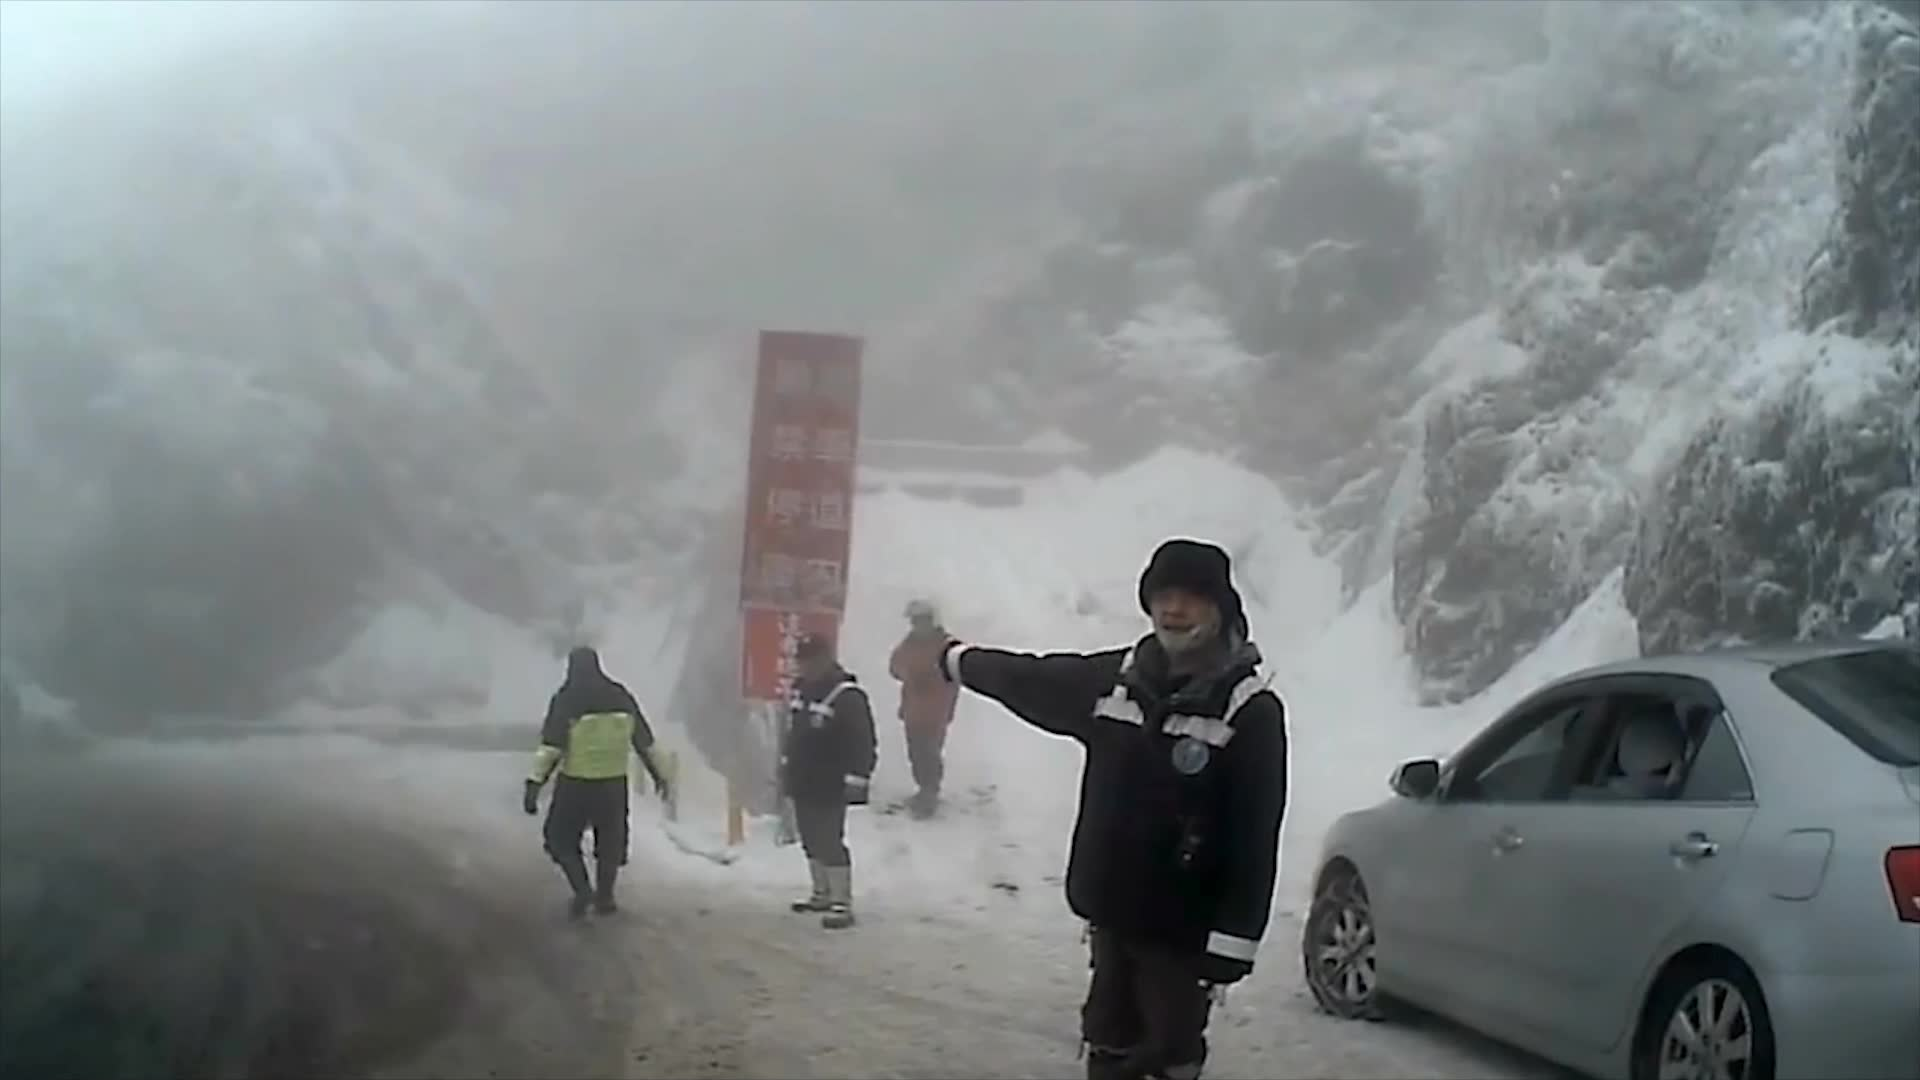pedestrian: (937, 539, 1286, 1080), (526, 649, 677, 919), (782, 631, 878, 930), (892, 596, 978, 822)
vehicle: (1303, 640, 1920, 1080)
